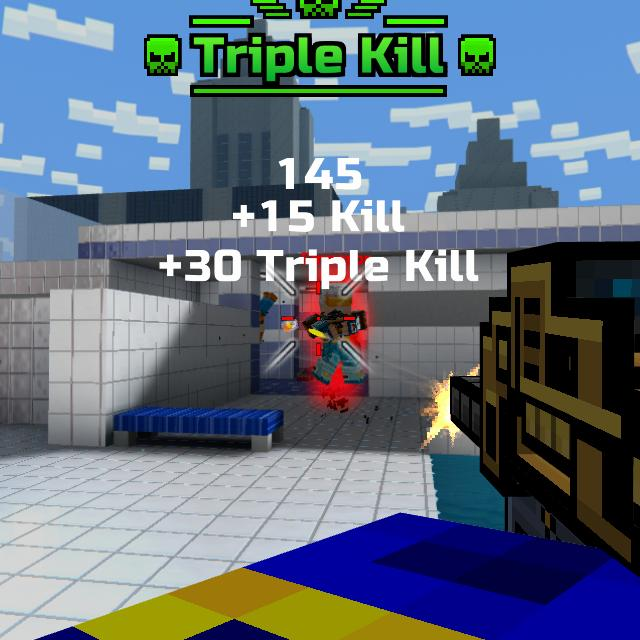Enemy: (304, 284, 369, 388)
